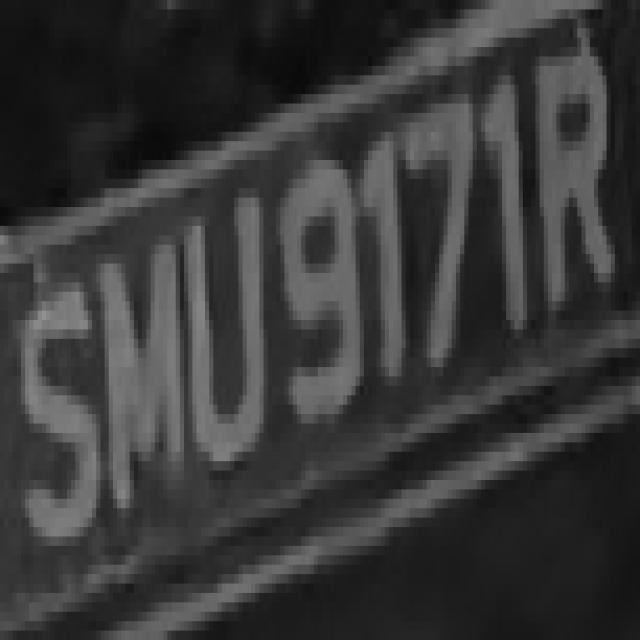1: (481, 47, 531, 377), (360, 104, 406, 424)
7: (389, 75, 477, 405)
9: (272, 150, 360, 442)
M: (96, 226, 188, 536)
R: (527, 19, 623, 339)
S: (8, 273, 96, 574)
U: (171, 178, 272, 471)
